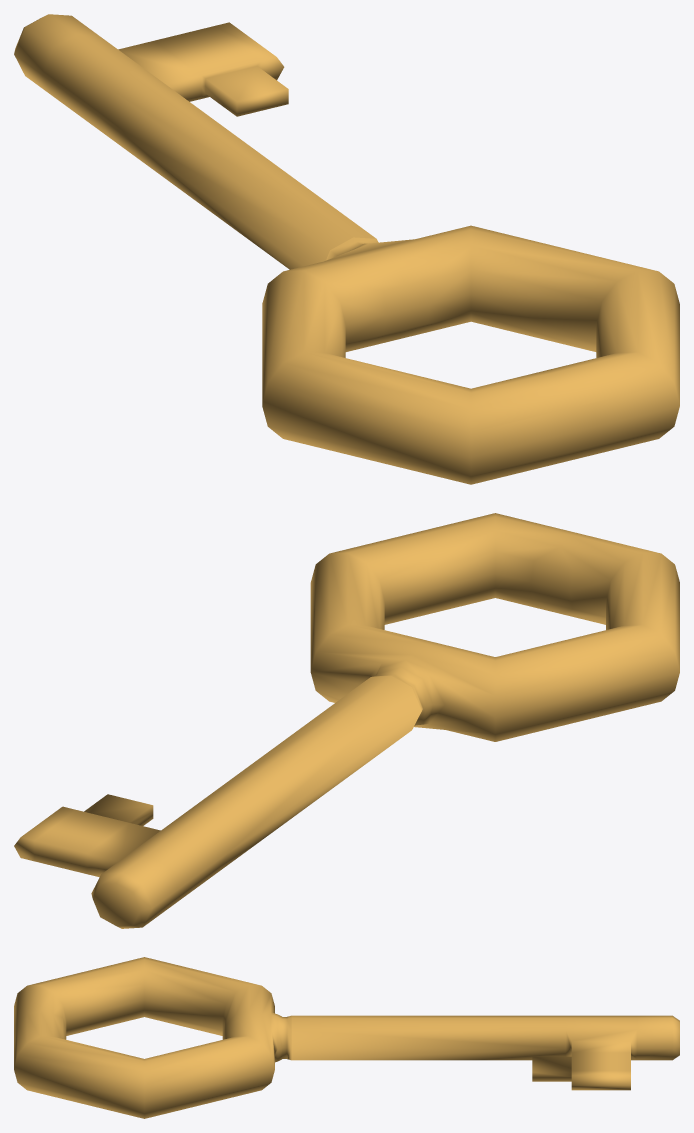
The model's file is KeyBedroom.fbx.
3 renders of one model, top to bottom at view 1: azimuth 30°, elevation 25°; view 2: azimuth 150°, elevation 25°; view 3: azimuth 270°, elevation 25°, orthographic. The views are drawn at different scales.
Parts seen in each view (by area): view 1: BedroomKey; view 2: BedroomKey; view 3: BedroomKey.
Boxes of the visible parts, x1=… form: BedroomKey: x1=14, y1=14, x2=679, y2=484; BedroomKey: x1=14, y1=513, x2=679, y2=928; BedroomKey: x1=14, y1=957, x2=679, y2=1118.
Size of the model in its own units: 10.91 by 2.18 by 24.12.
